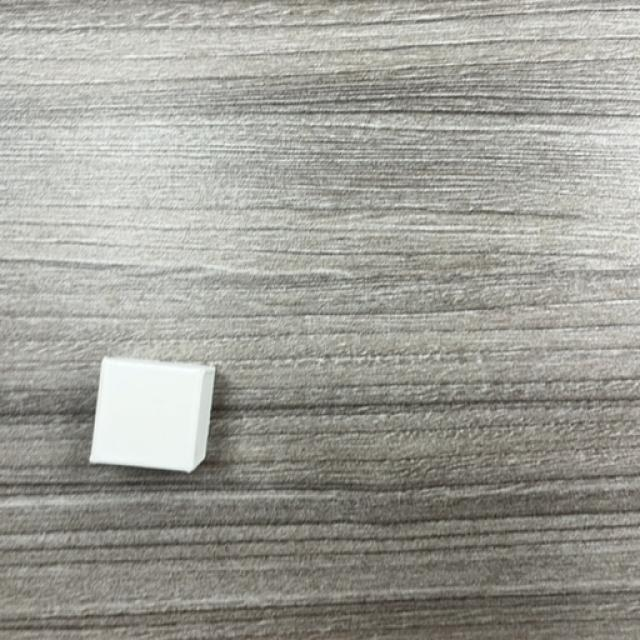Blanco: (89, 358, 218, 476)
